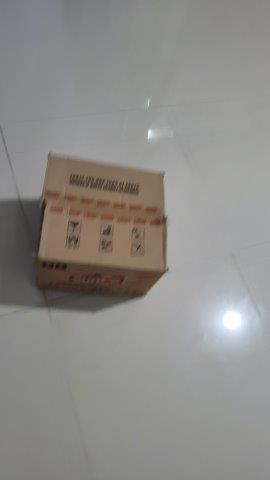kardus: (37, 155, 168, 296)
